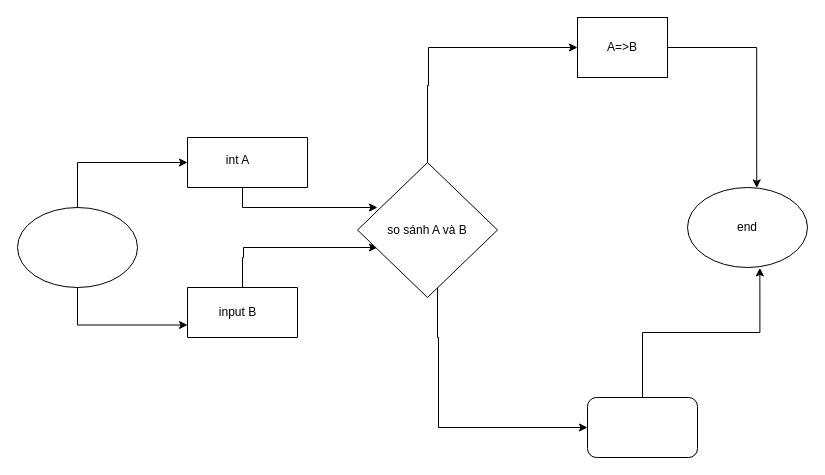
Image size: 825x475. Some labels were removed from this diagram. The shapes that lost their labels are listed below. From the top down, each one's centre as x and y in pixels, then its label:
point 77,247: star
point 642,427: A<=B
